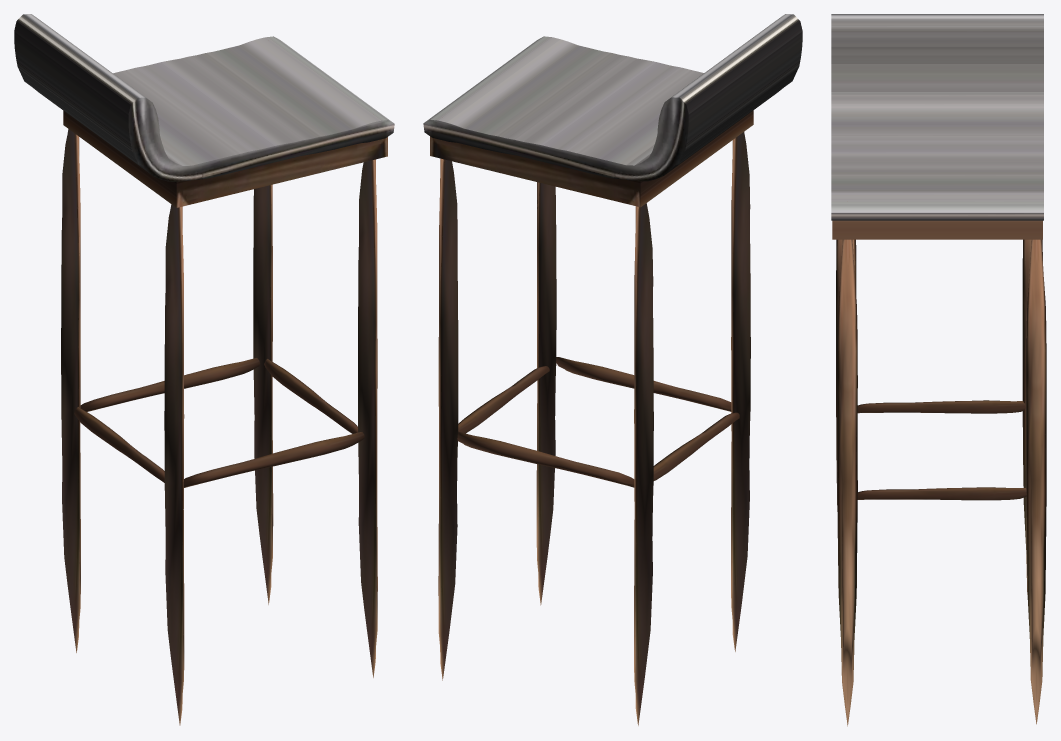
Rendered from bar_stool_wood.glb.
3 views of the same model, side by side, from view 1: azimuth 30°, elevation 25°; view 2: azimuth 150°, elevation 25°; view 3: azimuth 270°, elevation 25° (orthographic). The views are drawn at different scales.
Visible parts, largest first — view 1: Object_2; view 2: Object_2; view 3: Object_2.
Part boxes in pixels (left/top/right/bottom): Object_2: left=14, top=14, right=394, bottom=725; Object_2: left=423, top=14, right=802, bottom=725; Object_2: left=831, top=14, right=1046, bottom=726.
Size of the model in its own units: 0.3659 by 0.85 by 0.2756.
Materials: 1 (1 with a texture image).
